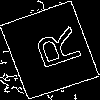R: (25, 25, 83, 75)
